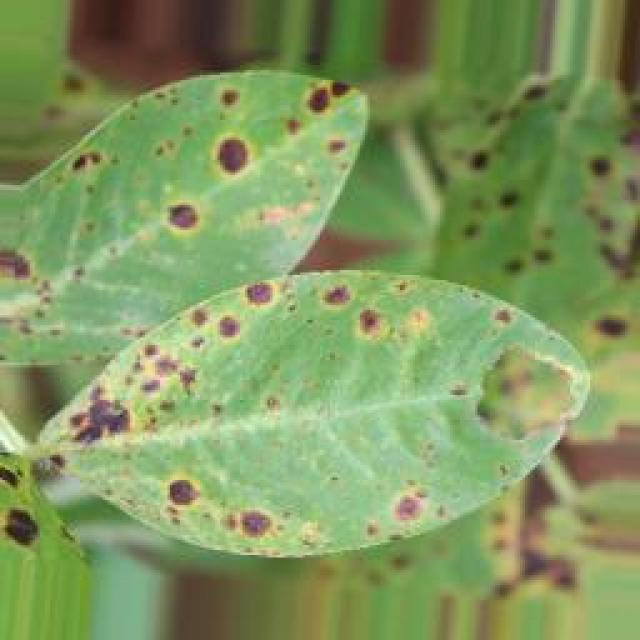Yellowish: (0, 65, 590, 560)
